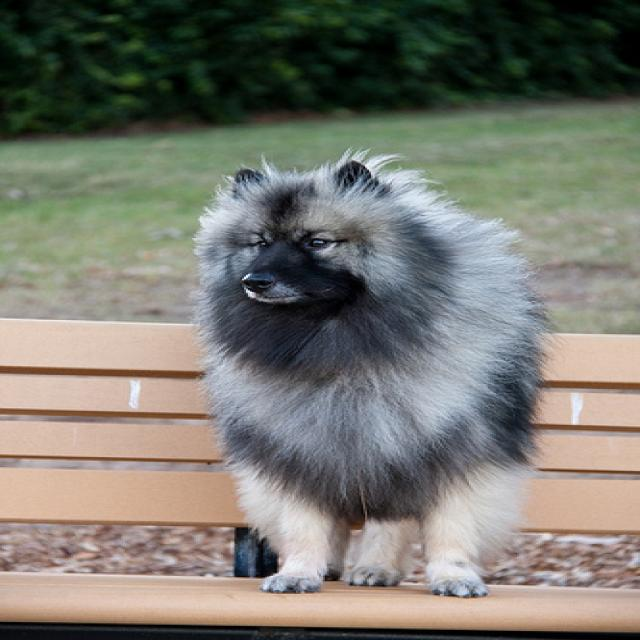dog-keeshond: (177, 141, 557, 609)
